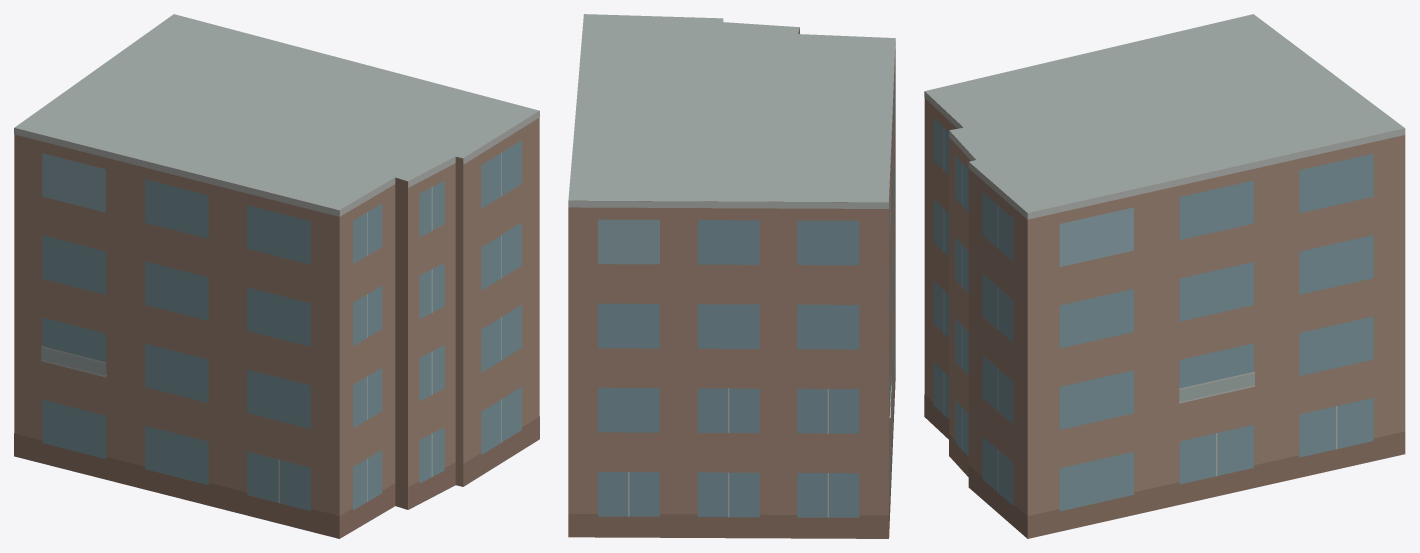
Rendered from survey-upis-32712851.glb.
The picture shows the model from 3 angles, left to right: view 1: azimuth 30°, elevation 25°; view 2: azimuth 150°, elevation 25°; view 3: azimuth 270°, elevation 25°; orthographic projection. The views are drawn at different scales.
Parts seen in each view (by area): view 1: survey-upis-32712851.tmp; view 2: survey-upis-32712851.tmp; view 3: survey-upis-32712851.tmp.
Part boxes in pixels (bbox=[...]): survey-upis-32712851.tmp: bbox=[14, 14, 539, 538]; survey-upis-32712851.tmp: bbox=[568, 14, 895, 538]; survey-upis-32712851.tmp: bbox=[924, 14, 1405, 538].
Size of the model in its own units: 16.01 by 12.2 by 16.33.
